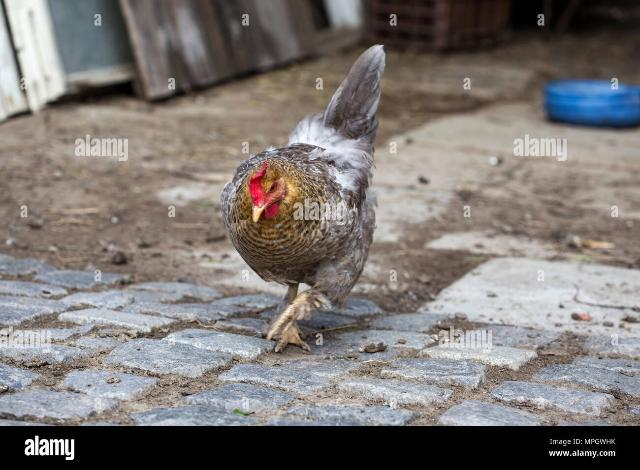Chicken: (221, 45, 385, 349)
